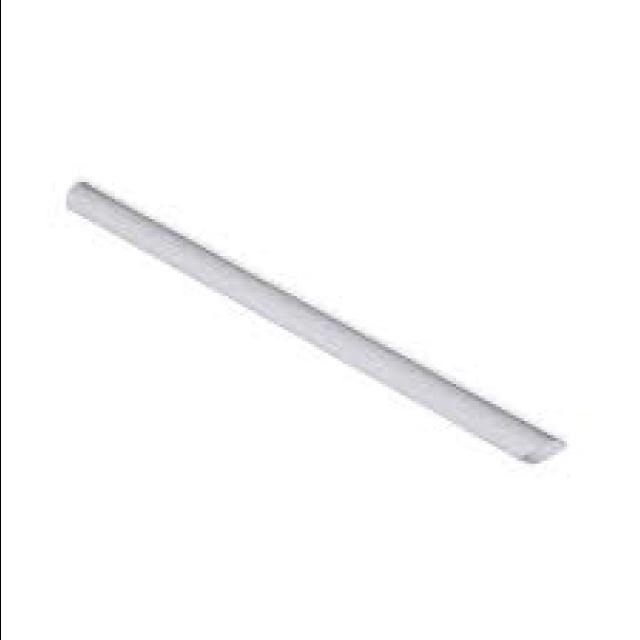straw: (68, 182, 562, 462)
